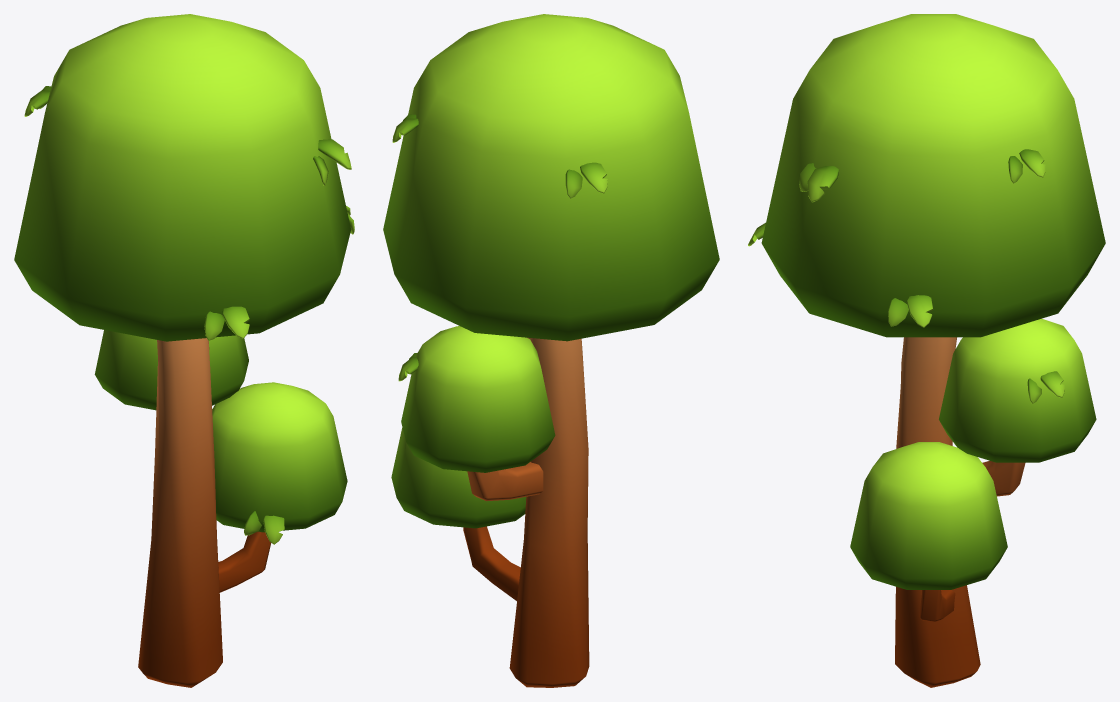
File: Tree.fbx
3 renders of one model, left to right at view 1: azimuth 30°, elevation 25°; view 2: azimuth 150°, elevation 25°; view 3: azimuth 270°, elevation 25°, orthographic.
Visible parts, largest first — view 1: tree 02.010; view 2: tree 02.010; view 3: tree 02.010.
Boxes of the visible parts, x1,y1,x2,y2 form: tree 02.010: (14, 14, 354, 687); tree 02.010: (383, 14, 719, 687); tree 02.010: (748, 14, 1105, 687).
Bounding box in the file's own units: 435 × 885 × 446.
